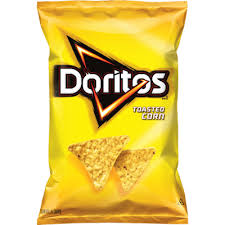Doritos: (38, 1, 192, 218)
